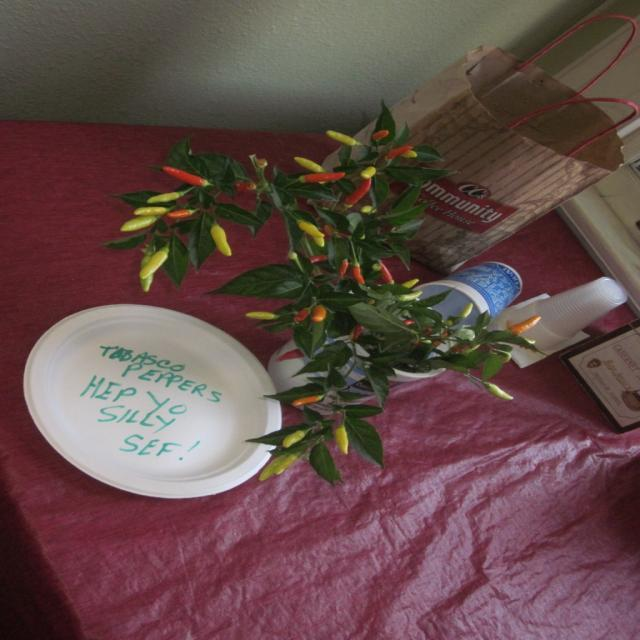ceramic plate: (9, 312, 340, 546)
